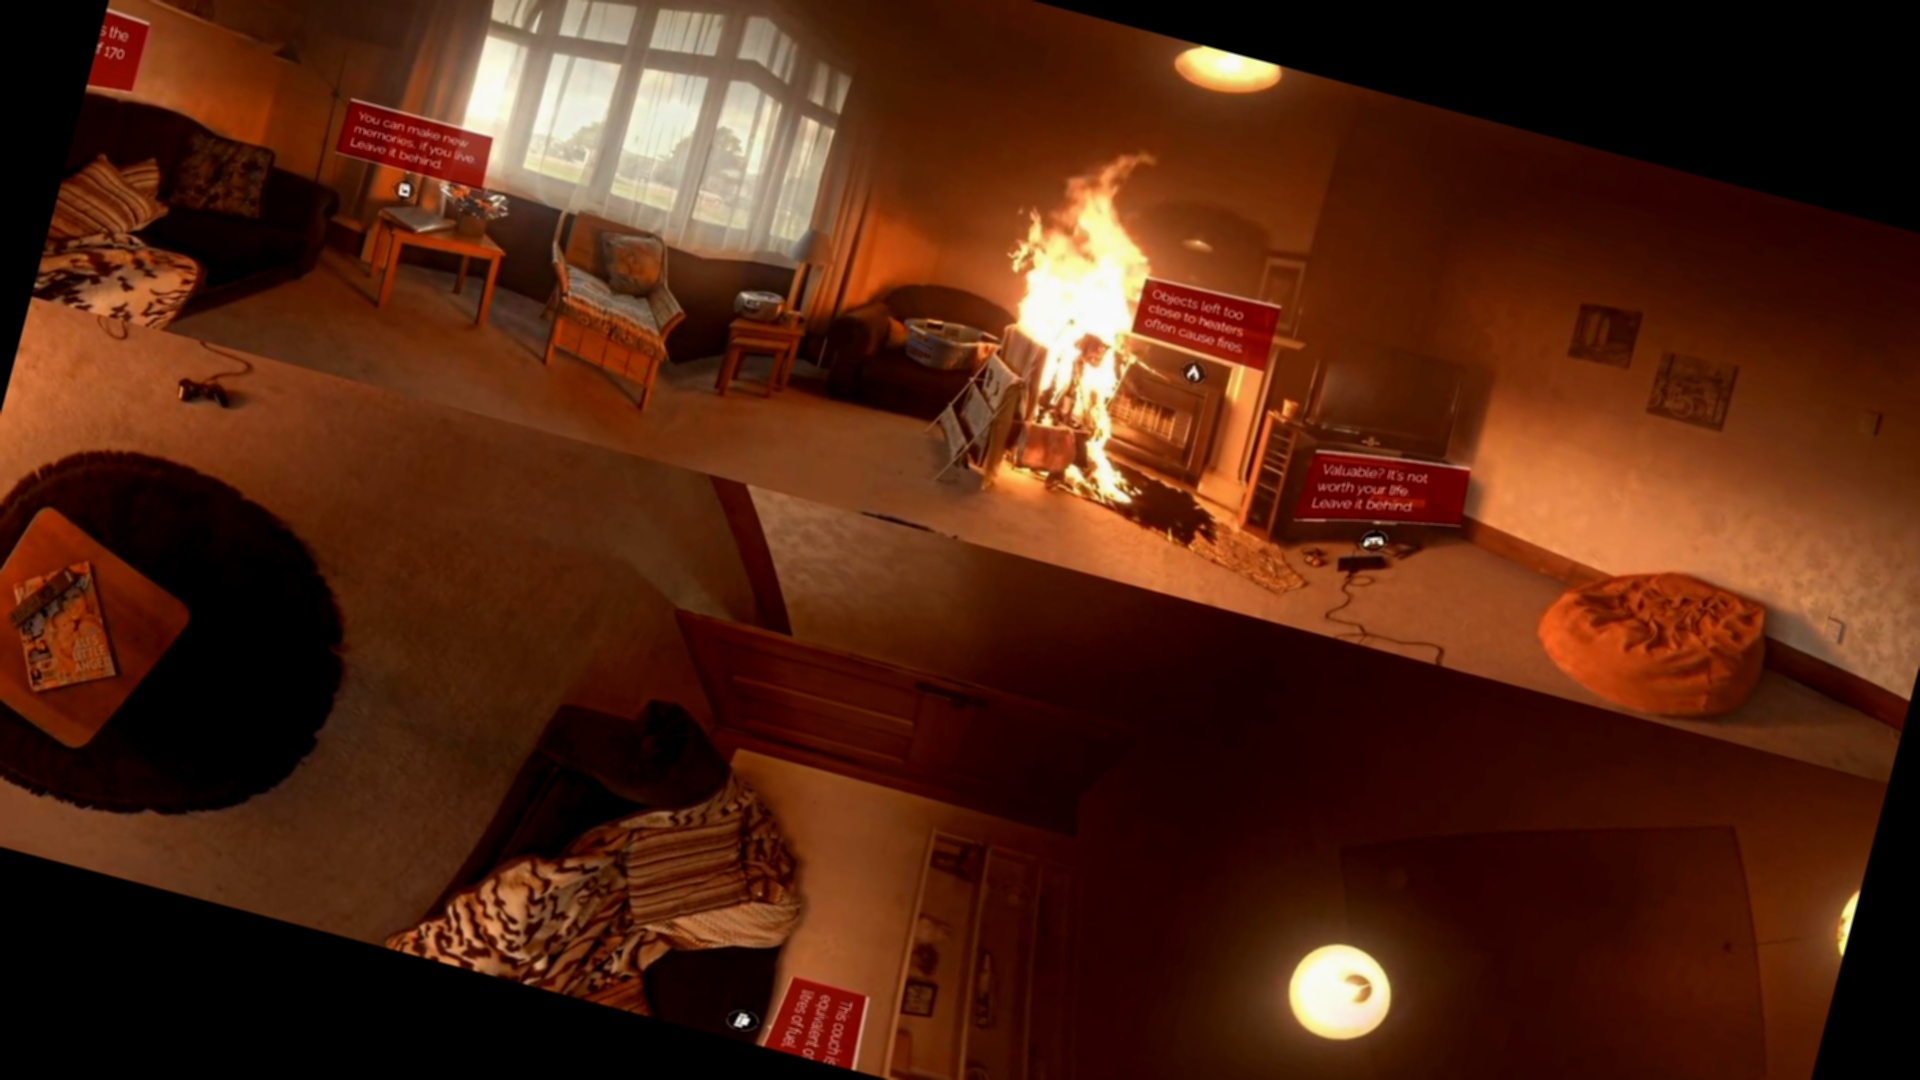fire: (977, 133, 1193, 418)
